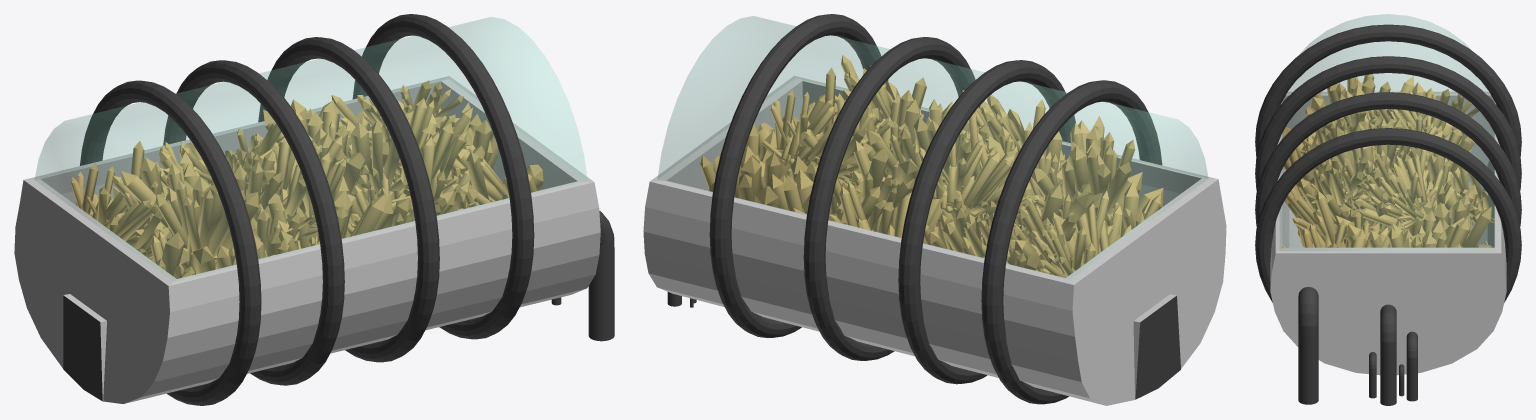
File: reservoir.fbx
3 renders of one model, left to right at view 1: azimuth 30°, elevation 25°; view 2: azimuth 150°, elevation 25°; view 3: azimuth 270°, elevation 25°, orthographic. The views are drawn at different scales.
Parts seen in each view (by area): view 1: Cylinder, Cube, Torus.003, Cube.007, Cube.008, Cube.006, Cube.004, Cube.002, Cylinder.001, Cube.005, Cube.003, Cube.001; view 2: Cylinder, Cube, Torus.003, Cube.007, Cube.008, Cube.006, Cube.005, Cube.002, Cube.003, Cube.004, Cube.001; view 3: Cylinder, Cube, Torus.003, Cube.008, Cylinder.001, Cube.004, Cube.007, Cube.005, Cube.002, Cube.006, Cube.003.
Part boxes in pixels (x1,y1,x2,y2): Cylinder: (35,17,587,281); Cube: (14,76,600,403); Torus.003: (80,14,534,405); Cube.007: (112,122,345,269); Cube.008: (263,80,472,227); Cube.006: (71,141,300,278); Cube.004: (348,109,537,228); Cube.002: (255,101,438,251); Cylinder.001: (551,211,614,341); Cube.005: (347,100,543,234); Cube.003: (89,140,469,277); Cube.001: (113,187,316,274); Cylinder: (658,16,1208,279); Cube: (643,76,1226,405); Torus.003: (709,14,1162,404); Cube.007: (918,90,1135,245); Cube.008: (761,55,987,207); Cube.006: (939,149,1160,277); Cube.005: (700,116,914,230); Cube.002: (799,118,1064,243); Cube.003: (787,159,1163,276); Cube.004: (709,94,942,224); Cube.001: (933,190,1134,270); Cylinder: (1280,14,1494,250); Cube: (1270,91,1506,375); Torus.003: (1255,24,1521,302); Cube.008: (1302,115,1453,229); Cylinder.001: (1298,287,1417,405); Cube.004: (1282,179,1491,247); Cube.007: (1299,74,1436,161); Cube.005: (1327,161,1488,247); Cube.002: (1289,129,1494,231); Cube.006: (1304,89,1478,166); Cube.003: (1282,123,1474,247).
Bounding box in the file's own units: 6.09 × 3.56 × 3.69.
